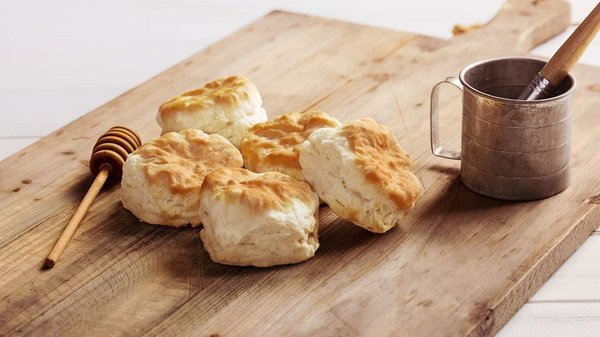pasta: (157, 75, 268, 145)
salad: (41, 126, 143, 270), (521, 2, 600, 101)
